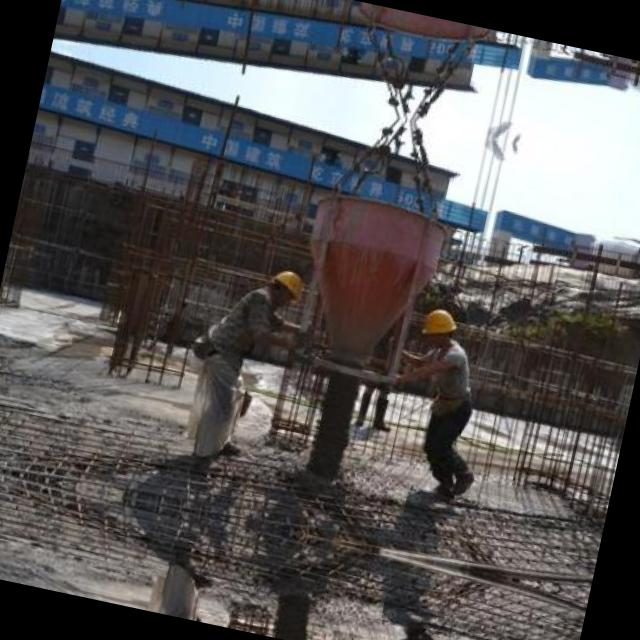helmet: (262, 262, 308, 310), (416, 301, 461, 349)
